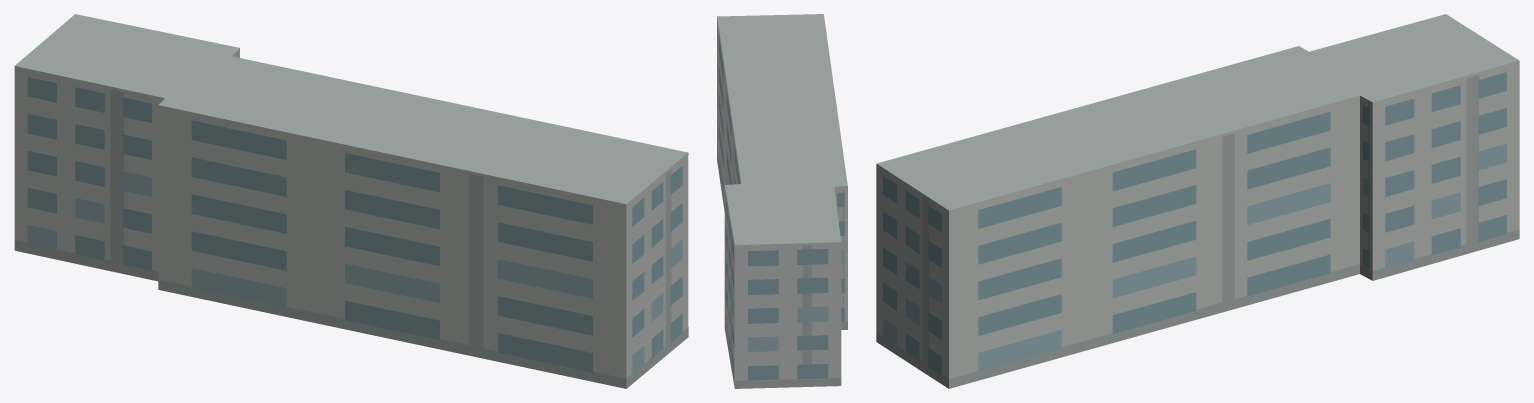
The model's file is survey-upis-33039011.glb.
3 renders of one model, left to right at view 1: azimuth 30°, elevation 25°; view 2: azimuth 150°, elevation 25°; view 3: azimuth 270°, elevation 25°, orthographic. The views are drawn at different scales.
Visible parts, largest first — view 1: survey-upis-33039011.tmp; view 2: survey-upis-33039011.tmp; view 3: survey-upis-33039011.tmp.
Part boxes in pixels (<box>): survey-upis-33039011.tmp: <box>14,14,688,388</box>; survey-upis-33039011.tmp: <box>717,14,847,388</box>; survey-upis-33039011.tmp: <box>876,14,1519,388</box>.
Size of the model in its own units: 36.01 by 15.25 by 49.81.
